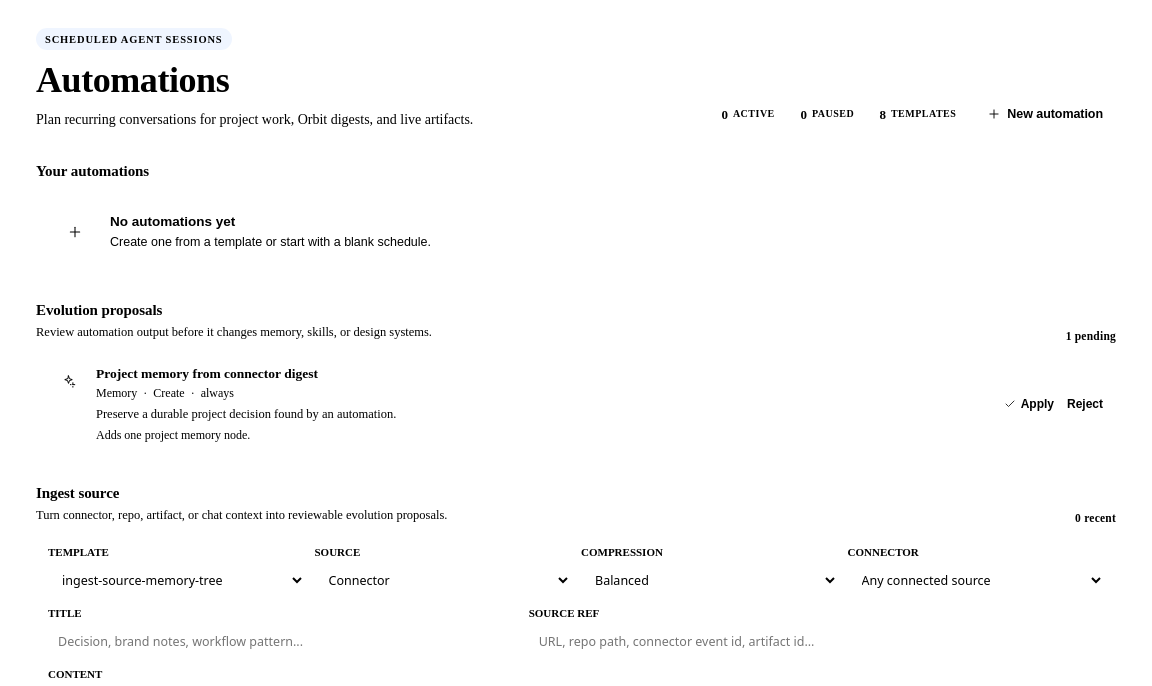
TasksView automation templates › shows pending evolution proposals and applies them through the review gate
The image size is (1152, 686).
Expected: the heading "Evolution proposals" is shown, [36,302,162,318]
Expected: the text "Project memory from connector digest" is shown, [96,366,318,381]
Click the button "Apply" at [1029, 404], box [994,389,1064,419]
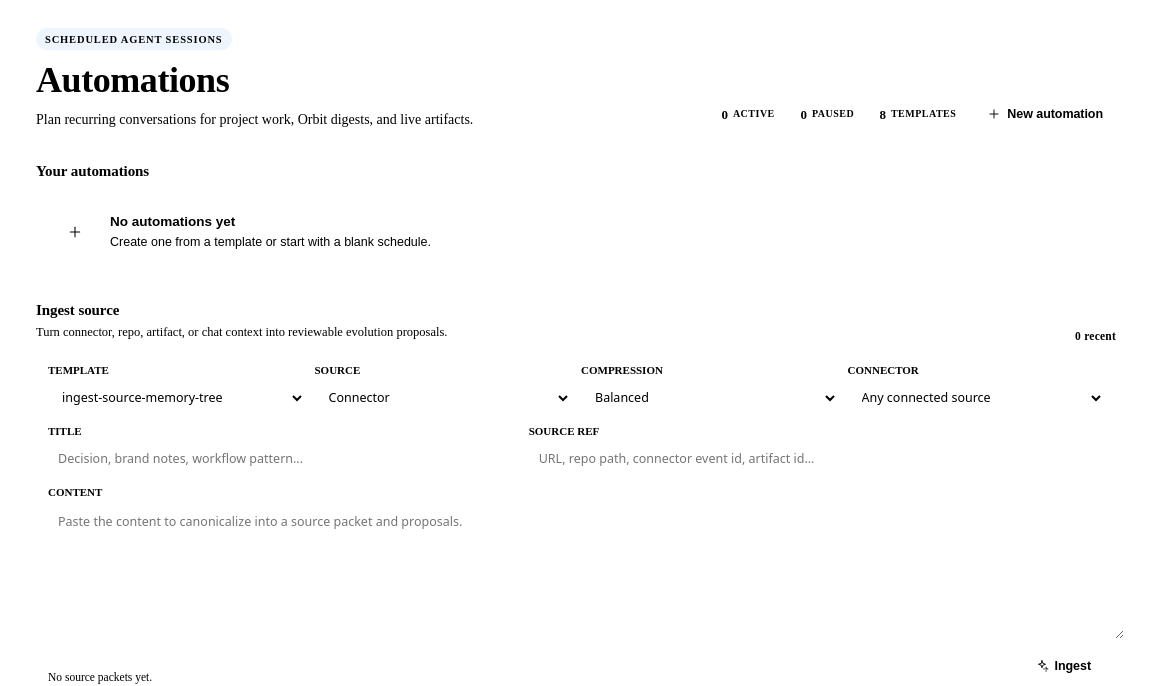
Expected: the text "Project memory from connector digest" is gone
